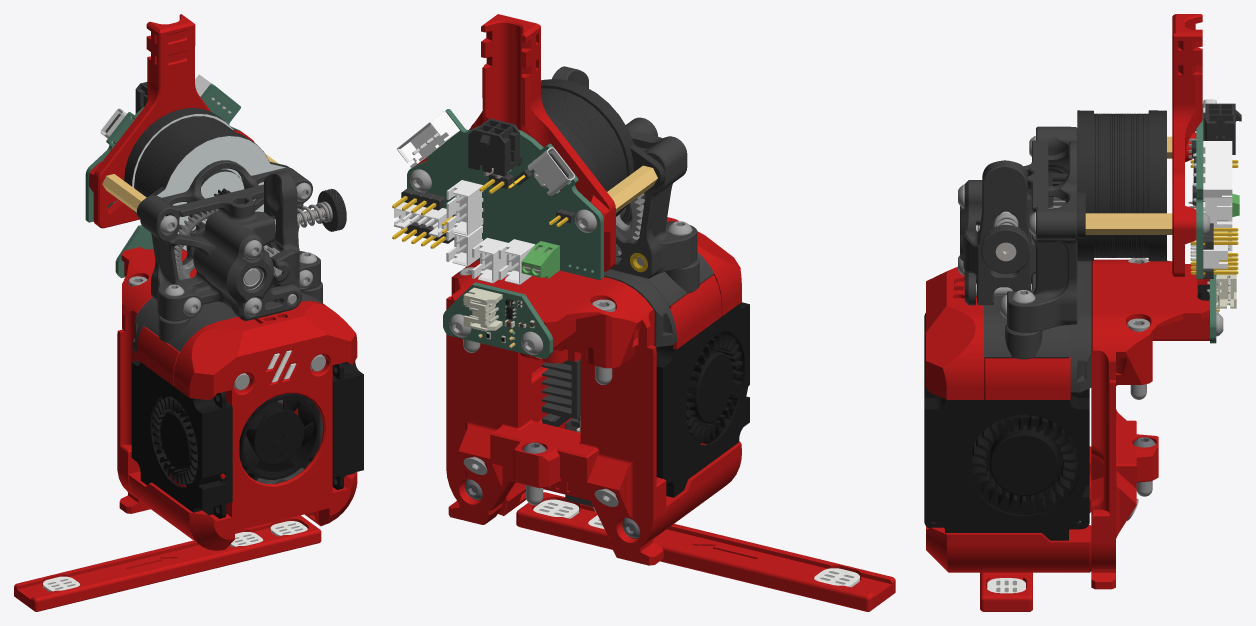
3 views of the same model, side by side, from view 1: azimuth 30°, elevation 25°; view 2: azimuth 150°, elevation 25°; view 3: azimuth 270°, elevation 25° (orthographic). The views are drawn at different scales.
Parts seen in each view (by area): view 1: MainBody, 4010 Blower Fan001, NEMA14_10t^sherpa_mini_a3_r17, housing_core_std^housing_sherpa_mini_a3_r17_FDM, Solder Jig, EBB Mount, DragonBurner Backplate, 4010 Blower Fan, 2510 Axial Fan, housing_rear_nema14^housing_sherpa_mini_a3_r17_FDM, idler_arm_long^housing_sherpa_mini_a3_r17_FDM, housing_front^housing_sherpa_mini_a3_r17_FDM (+10 smaller); view 2: DragonBurner Backplate, 4010 Blower Fan001, Solder Jig, Open CASCADE STEP translator 6.8 1.1.1, EBB Mount, NEMA14_10t^sherpa_mini_a3_r17, MainBody, housing_rear_nema14^housing_sherpa_mini_a3_r17_FDM, OptoTap PCB014, SOLID.step (1), housing_core_std^housing_sherpa_mini_a3_r17_FDM, Bambu Mount (+14 smaller); view 3: 4010 Blower Fan, DragonBurner Backplate, MainBody, NEMA14_10t^sherpa_mini_a3_r17, EBB Mount, housing_rear_nema14^housing_sherpa_mini_a3_r17_FDM, idler_arm_long^housing_sherpa_mini_a3_r17_FDM, housing_core_std^housing_sherpa_mini_a3_r17_FDM, Bambu Mount, Sherpa Mini Mount, DragonBurner Spacer, EBB36 Standoffs (+11 smaller).
Boxes of the visible parts, x1,y1,x2,y2 form: MainBody: (128,300,357,550); 4010 Blower Fan001: (131,360,232,518); NEMA14_10t^sherpa_mini_a3_r17: (124,108,289,251); housing_core_std^housing_sherpa_mini_a3_r17_FDM: (152,176,320,321); Solder Jig: (14,515,321,611); EBB Mount: (89,14,254,228); DragonBurner Backplate: (117,247,196,513); 4010 Blower Fan: (332,361,363,489); 2510 Axial Fan: (244,399,313,472); housing_rear_nema14^housing_sherpa_mini_a3_r17_FDM: (140,160,302,301); idler_arm_long^housing_sherpa_mini_a3_r17_FDM: (264,171,299,302); housing_front^housing_sherpa_mini_a3_r17_FDM: (223,232,302,320); DragonBurner Backplate: (446,260,666,565); 4010 Blower Fan001: (656,302,749,497); Solder Jig: (516,492,895,611); Open CASCADE STEP translator 6.8 1.1.1: (407,109,603,280); EBB Mount: (416,14,615,271); NEMA14_10t^sherpa_mini_a3_r17: (469,79,665,216); MainBody: (498,217,741,538); housing_rear_nema14^housing_sherpa_mini_a3_r17_FDM: (610,140,681,278); OptoTap PCB014: (443,282,552,358); SOLID.step (1): (468,118,521,178); housing_core_std^housing_sherpa_mini_a3_r17_FDM: (616,120,697,269); Bambu Mount: (531,275,721,363); 4010 Blower Fan: (924,380,1089,540); DragonBurner Backplate: (1091,259,1209,589); MainBody: (926,266,1091,572); NEMA14_10t^sherpa_mini_a3_r17: (1052,110,1166,261); EBB Mount: (1172,14,1202,276); housing_rear_nema14^housing_sherpa_mini_a3_r17_FDM: (1048,126,1077,328); idler_arm_long^housing_sherpa_mini_a3_r17_FDM: (960,160,1035,305); housing_core_std^housing_sherpa_mini_a3_r17_FDM: (976,126,1048,332); Bambu Mount: (984,356,1070,399); Sherpa Mini Mount: (984,276,1083,359); DragonBurner Spacer: (1070,261,1091,392); EBB36 Standoffs: (1085,213,1172,234).
Size of the model in its own units: 0.1024 by 0.1477 by 0.0767.
